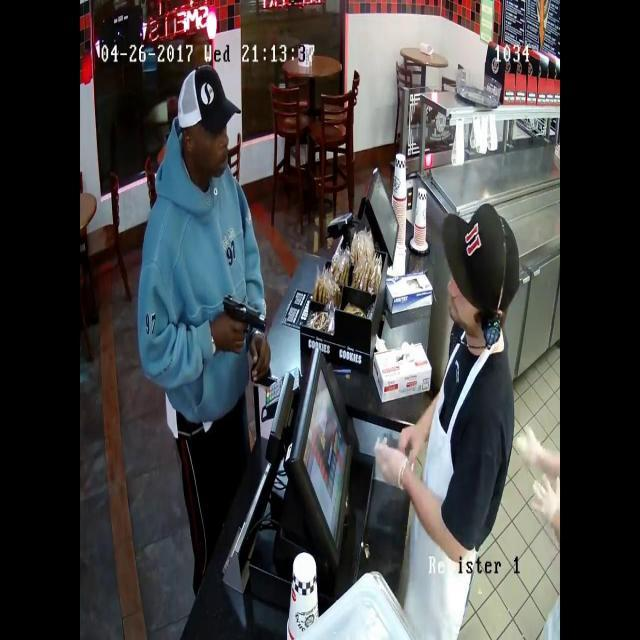weapon: (208, 282, 277, 361)
